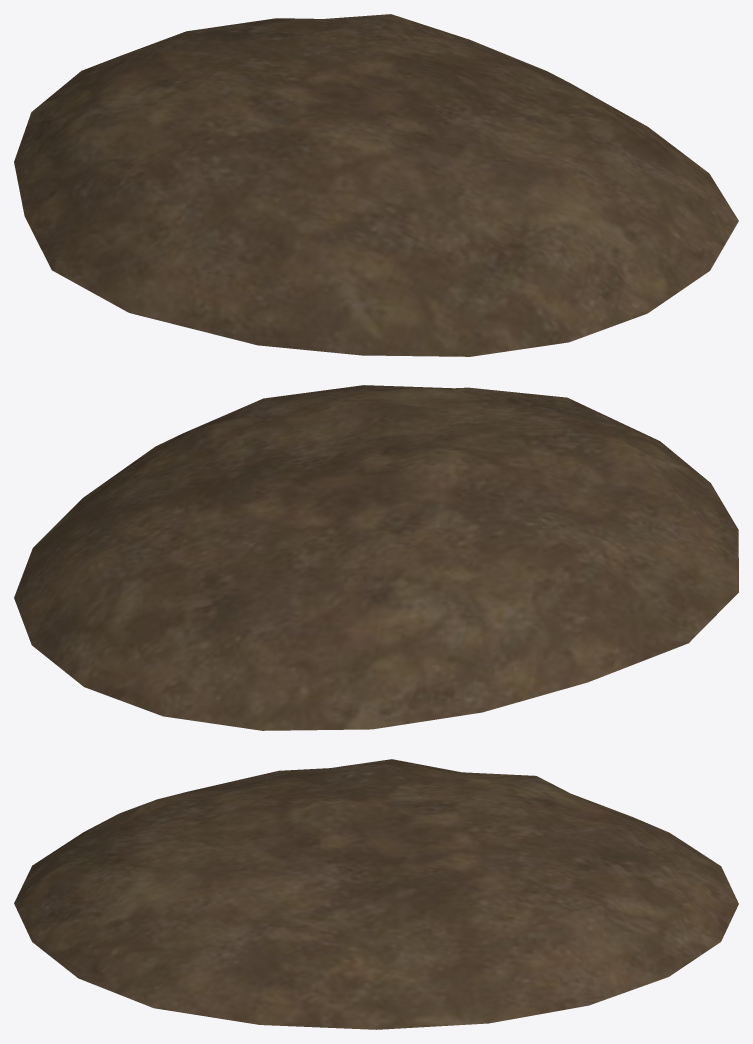
File: SM_Dirt_Mound_A.glb
The picture shows the model from 3 angles, top to bottom: view 1: azimuth 30°, elevation 25°; view 2: azimuth 150°, elevation 25°; view 3: azimuth 270°, elevation 25°; orthographic projection. The views are drawn at different scales.
Visible parts, largest first — view 1: SM_Dirt_Mound_A; view 2: SM_Dirt_Mound_A; view 3: SM_Dirt_Mound_A.
Part boxes in pixels (bbox=[...]): SM_Dirt_Mound_A: bbox=[14, 14, 738, 356]; SM_Dirt_Mound_A: bbox=[14, 385, 738, 730]; SM_Dirt_Mound_A: bbox=[14, 759, 738, 1029].
Size of the model in its own units: 1.74 by 0.2648 by 2.08.
Materials: 1 (1 with a texture image).
